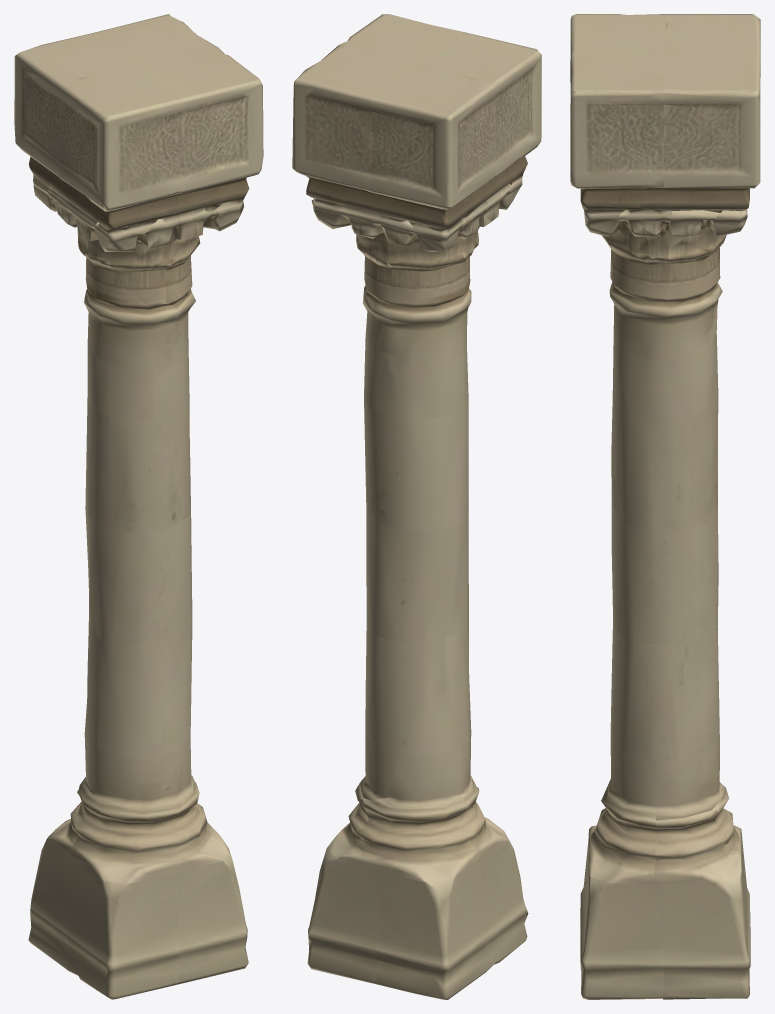
File: ZhuZi_2_12bbd0.glb
3 renders of one model, left to right at view 1: azimuth 30°, elevation 25°; view 2: azimuth 150°, elevation 25°; view 3: azimuth 270°, elevation 25°, orthographic. The views are drawn at different scales.
Parts seen in each view (by area): view 1: ZhuZi_2; view 2: ZhuZi_2; view 3: ZhuZi_2.
Boxes of the visible parts, box(x1,y1,x2,y2) form: ZhuZi_2: box(14, 14, 263, 999); ZhuZi_2: box(292, 14, 541, 999); ZhuZi_2: box(570, 14, 760, 999).
Size of the model in its own units: 0.3751 by 2 by 0.3781.
1 material, 1 textured.
